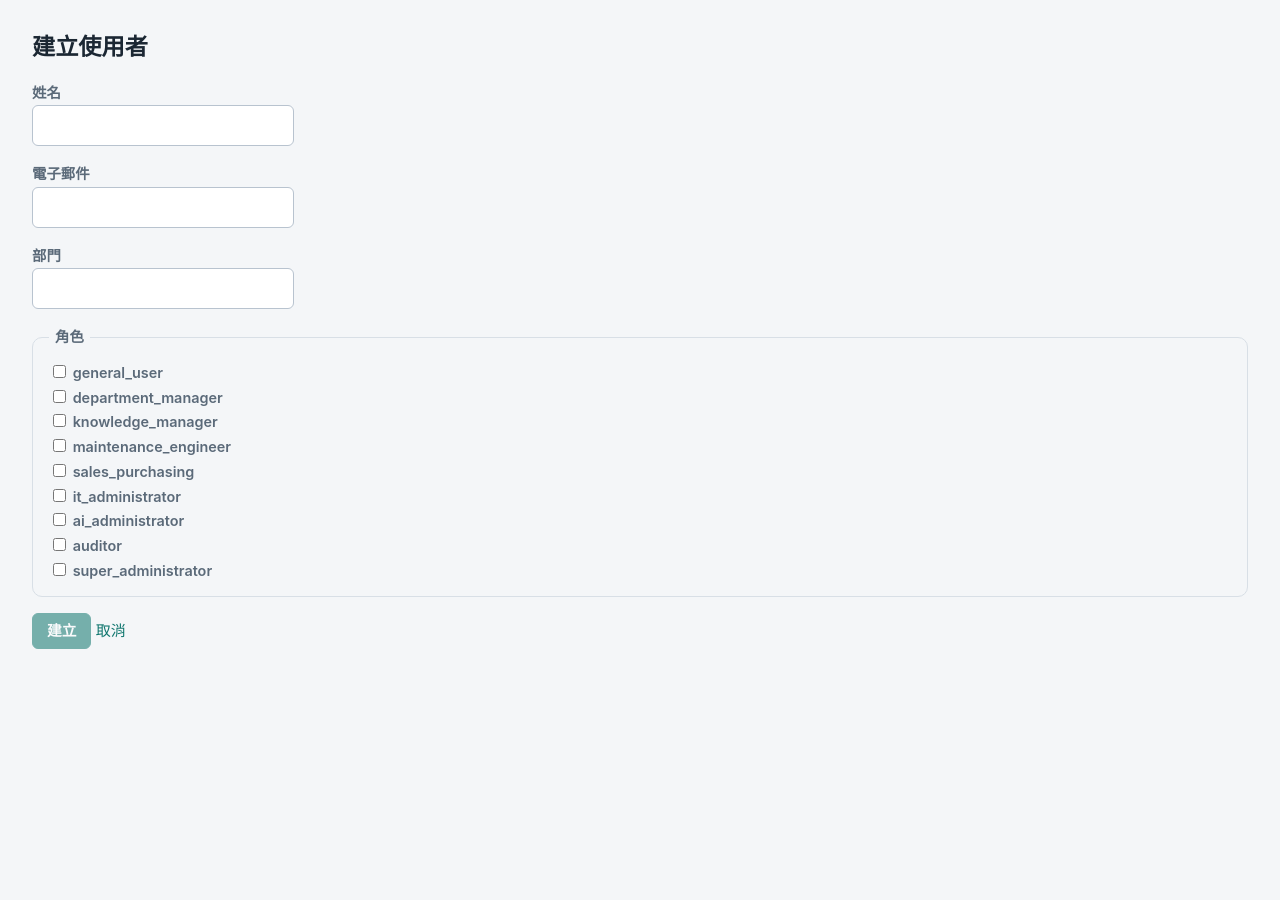
Test case: NewUserPage (E11-S004) › unchecking the only selected role disables submit again
Type "新進使用者" into the field labelled "姓名". click: (163, 126)
box: [32,106,294,146]
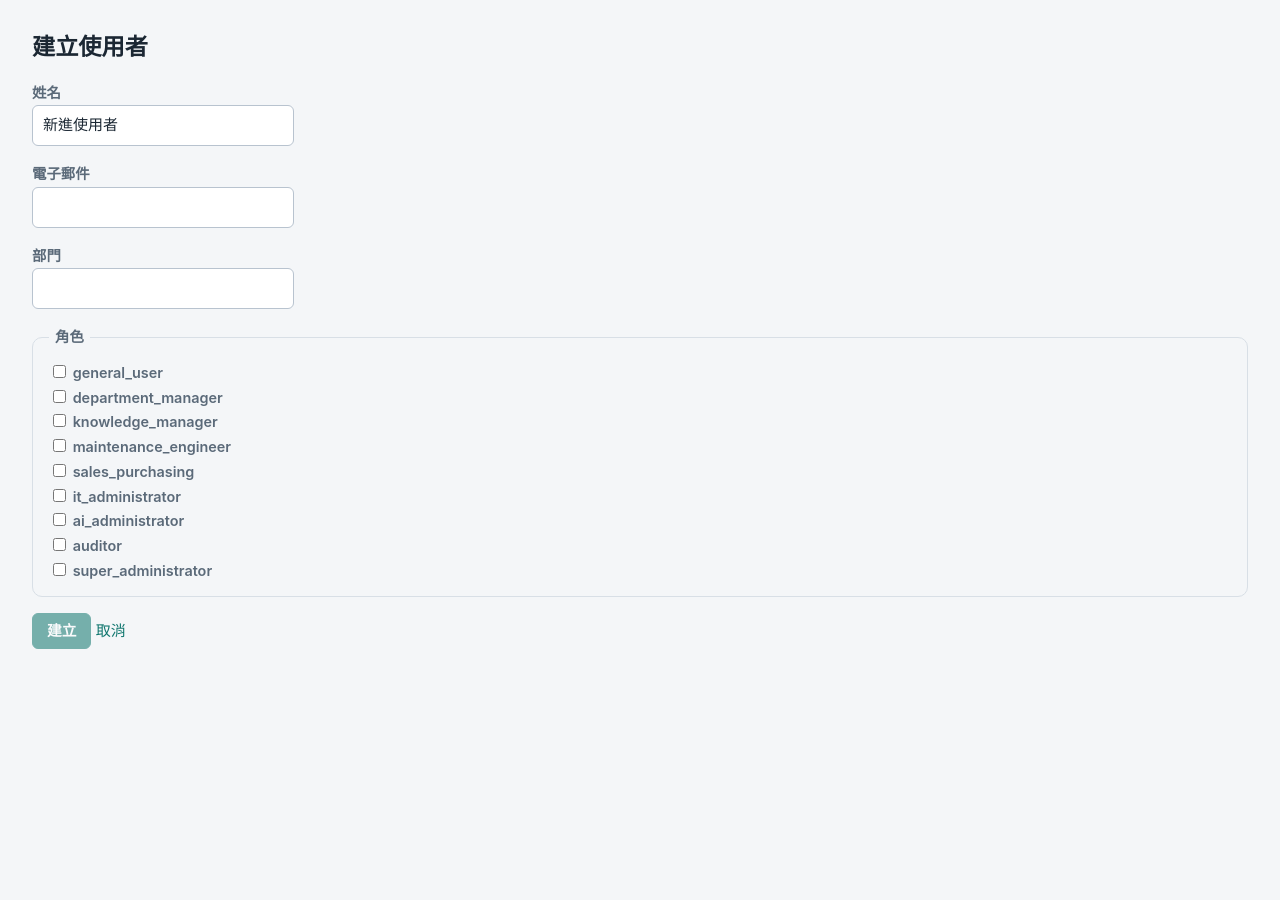
Type "new-user@example.com" into the field labelled "電子郵件". click: (163, 207)
box: [32,187,294,228]
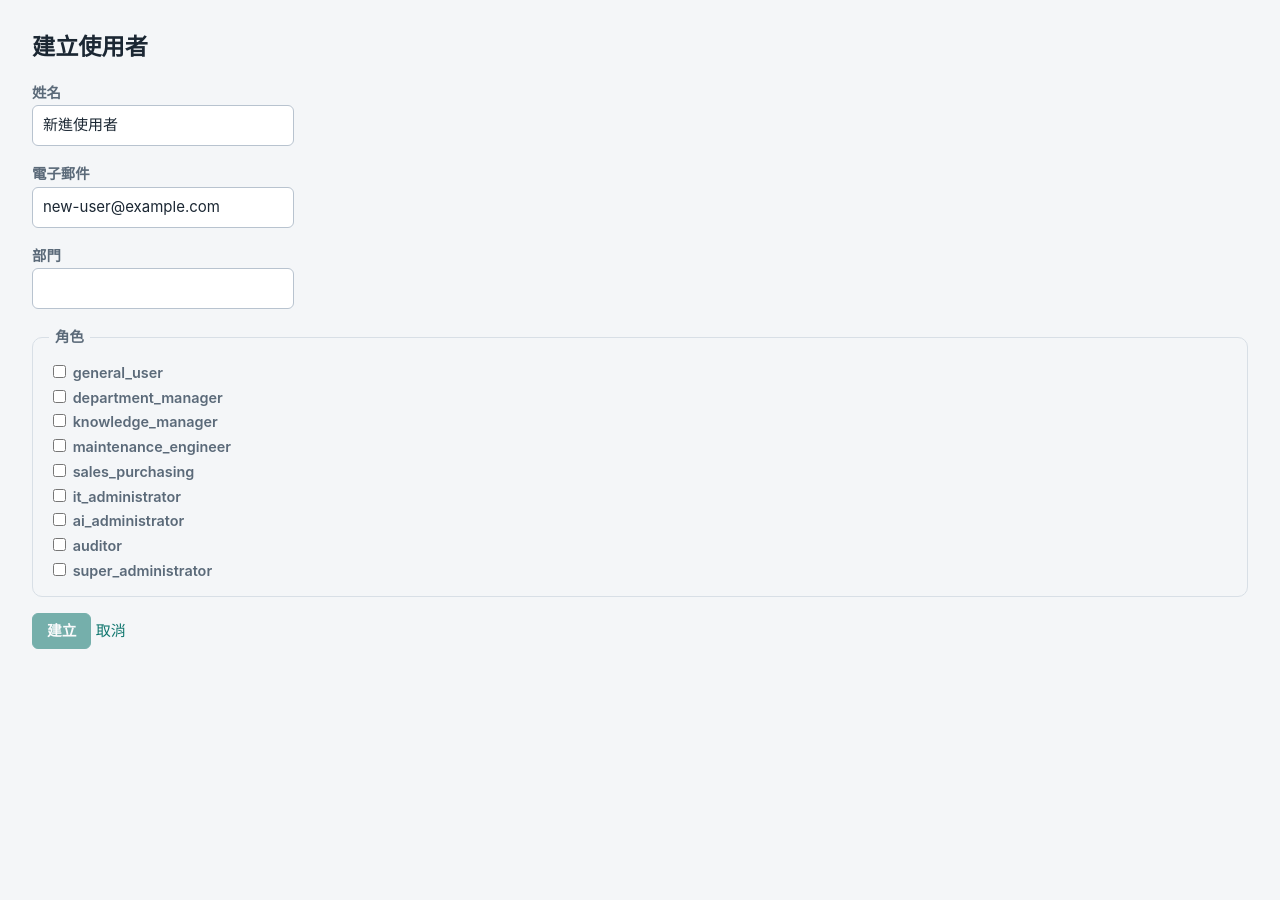
Type "業務部" into the field labelled "部門". click: (163, 289)
box: [32,268,294,309]
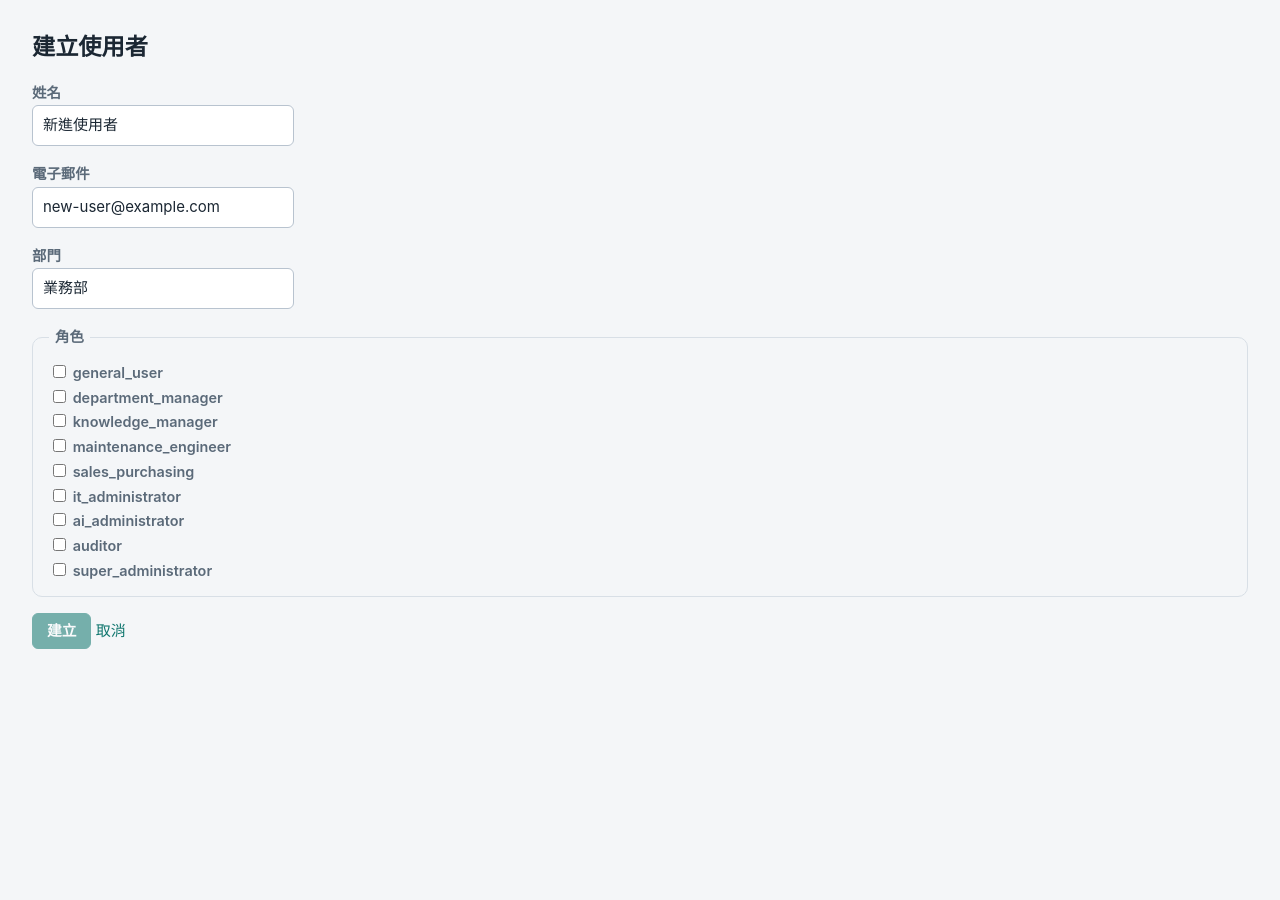
Click the checkbox labelled "sales_purchasing". click: (60, 470)
box: [53,464,66,477]
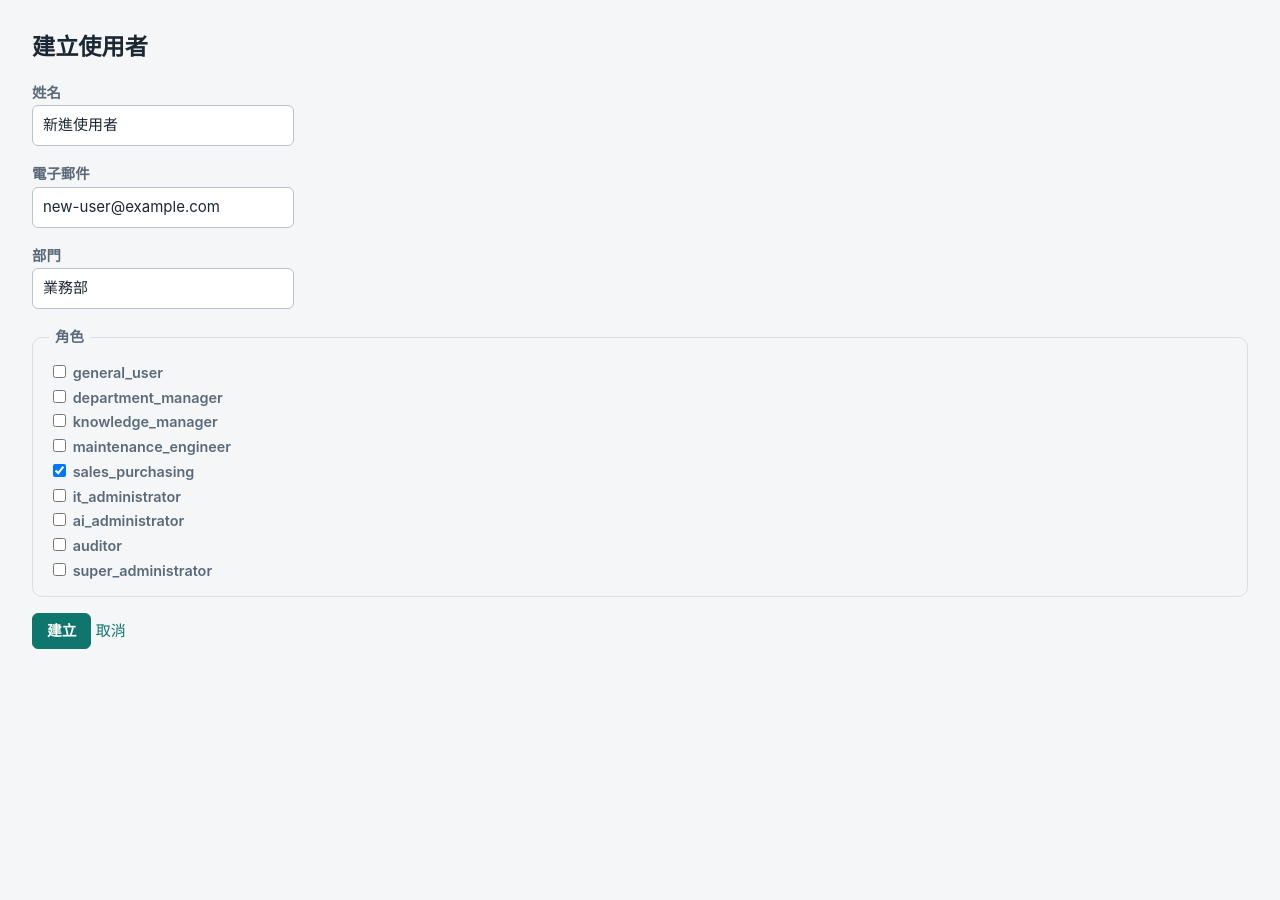
Expected: the button "建立" is enabled, [32,613,92,649]
Click the checkbox labelled "sales_purchasing". click: (60, 470)
box: [53,464,66,477]
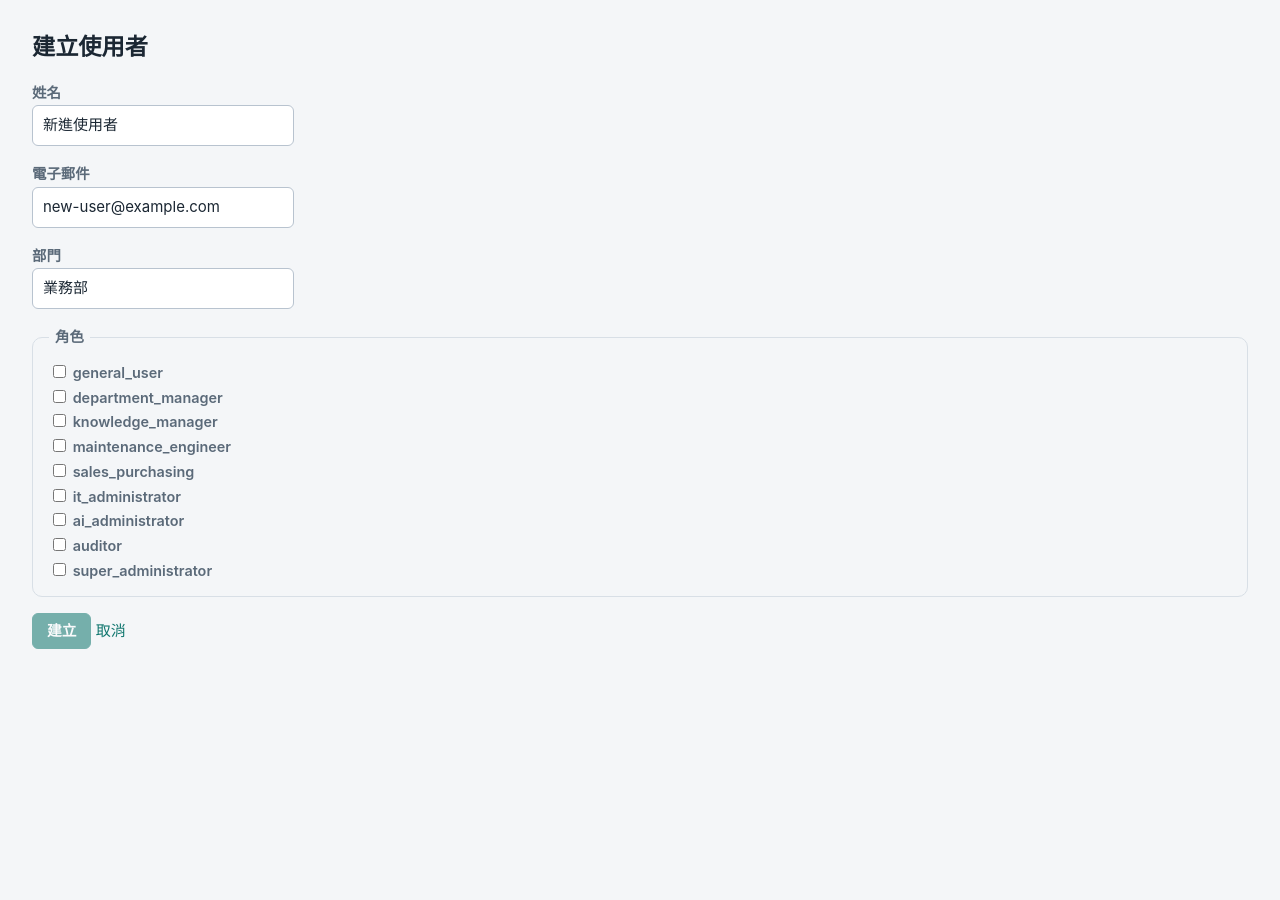
Expected: the button "建立" is disabled, [32,613,92,649]
